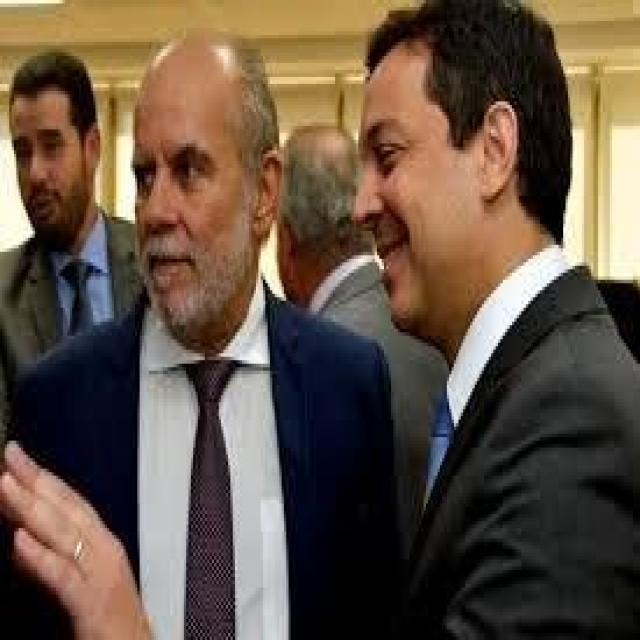person: (42, 21, 396, 636), (302, 11, 630, 636), (263, 112, 468, 525), (0, 49, 149, 360)
